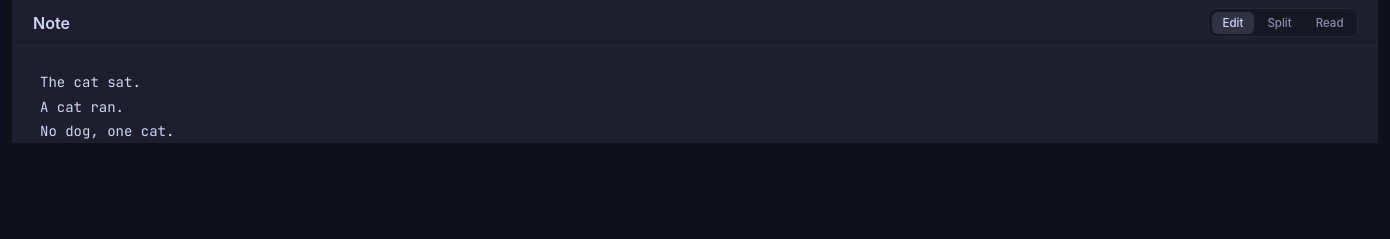
Find bar (#547) › goes to the next match on Enter and back on Shift+Enter, selecting it in the textarea
Press f
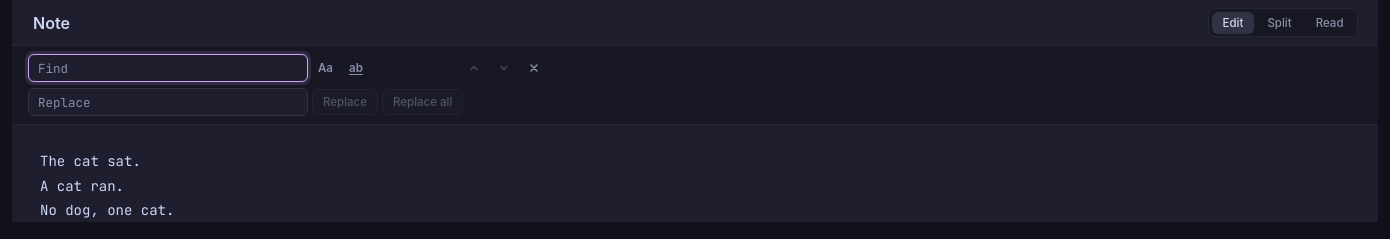
In the field labelled "Find": [168, 68] box [28, 54, 308, 82], type "cat"
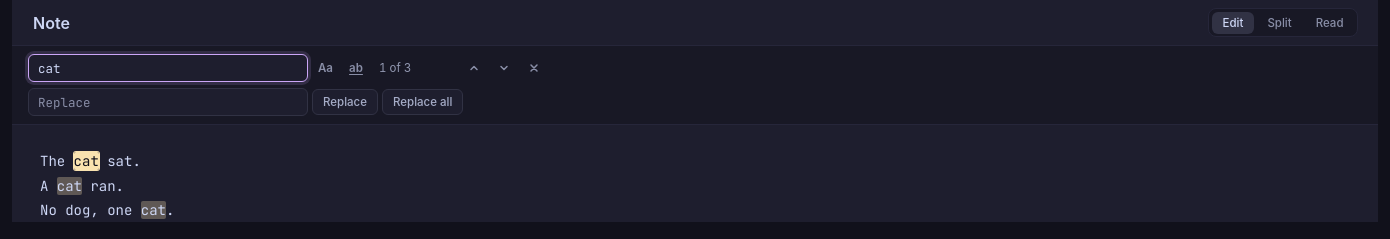
Press Enter in the field named "Find", box [28, 54, 308, 82]
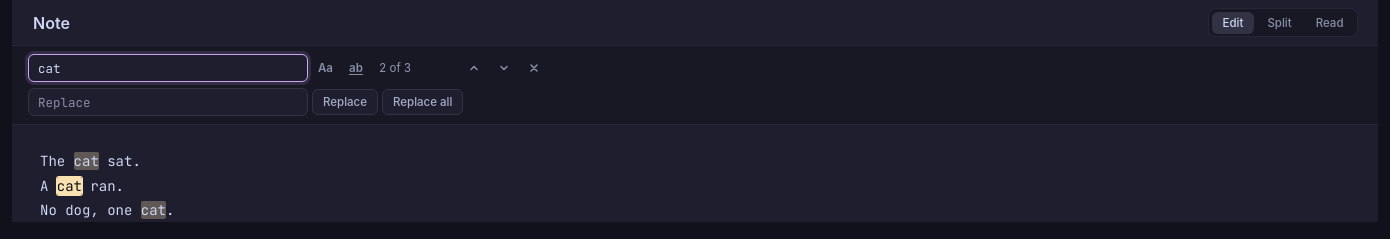
Now the text with class "find-bar-count" reads "2 of 3", box [379, 61, 411, 75]
Press Enter in the field named "Find", box [28, 54, 308, 82]
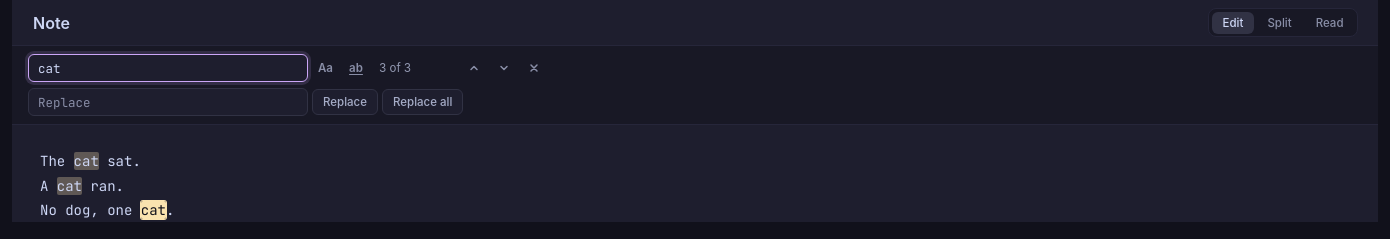
Press Enter in the field named "Find", box [28, 54, 308, 82]
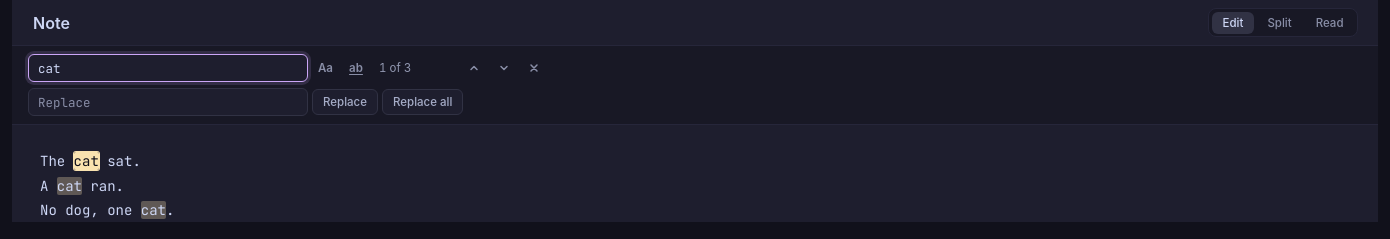
Now the text with class "find-bar-count" reads "1 of 3", box [379, 61, 411, 75]
Press Enter in the field named "Find", box [28, 54, 308, 82]
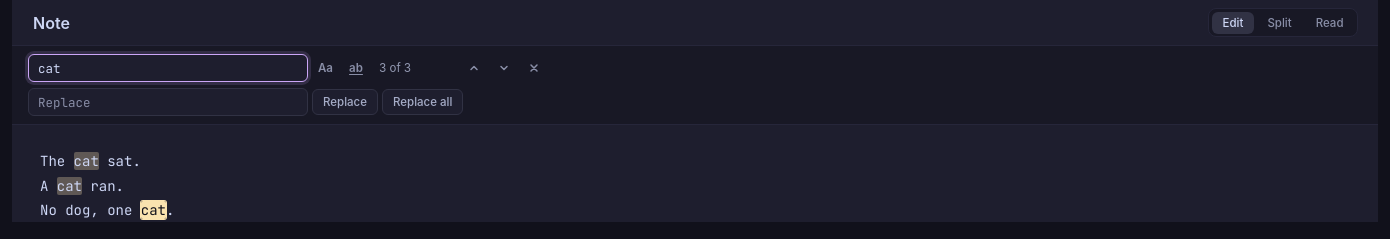
Now the text with class "find-bar-count" reads "3 of 3", box [379, 61, 411, 75]
